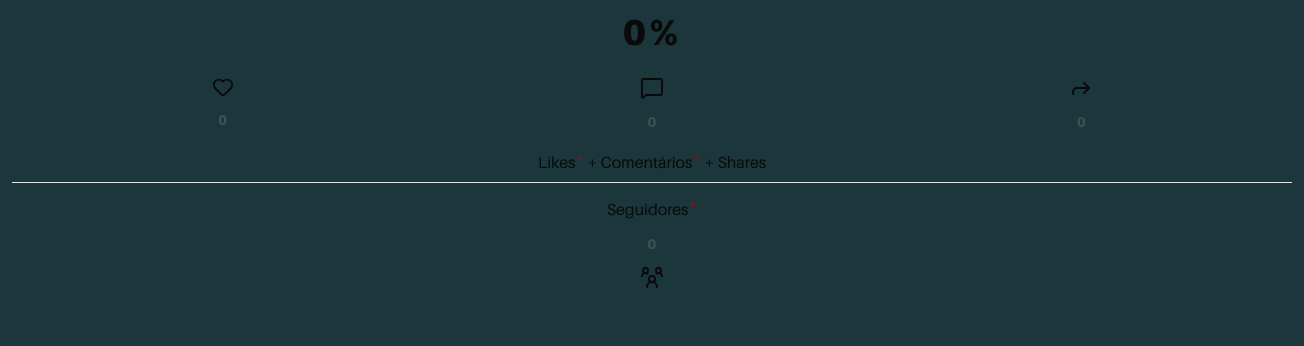
Test: EngagementCalculator › shows thousands separators while keeping raw digits for the rate
Type "700" into the field named "Curtidas" at (223, 120), box [12,106,433,134]
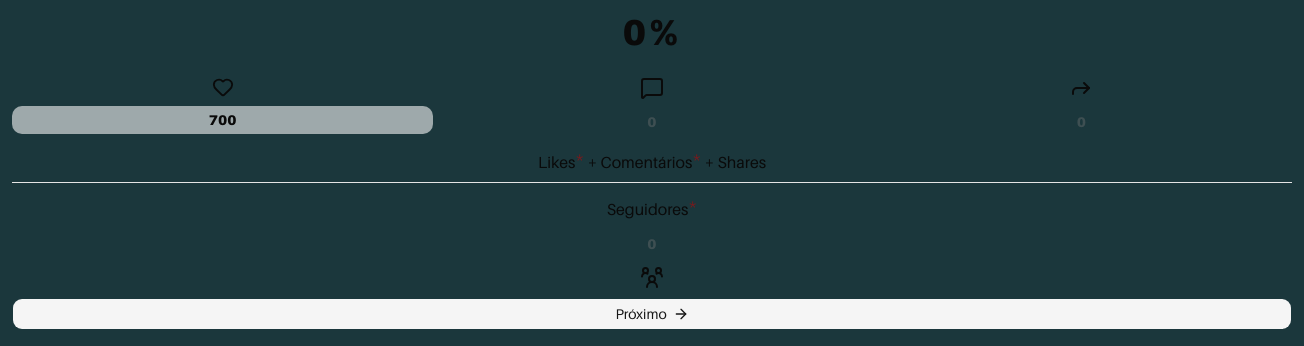
Type "10000" into the field named "Seguidores" at (652, 244), box [12,230,1292,258]
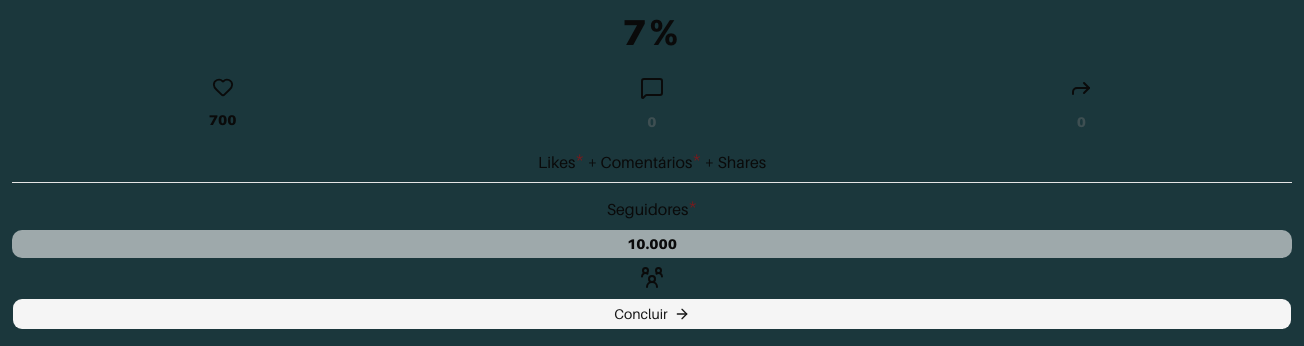
Now the 2nd field named "Seguidores" holds "10.000", box [12,230,1292,258]
Now the heading "7%" is shown, box [622,12,682,52]
